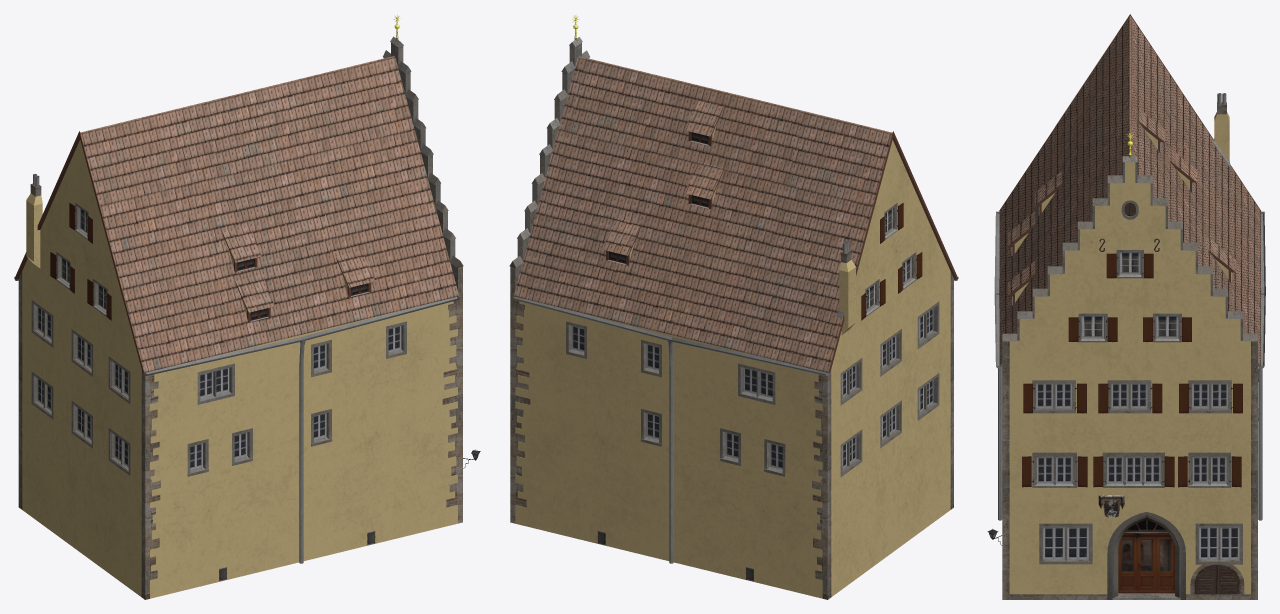
The model's file is mdl_wollo_rothenburg_2.gltf.
3 renders of one model, left to right at view 1: azimuth 30°, elevation 25°; view 2: azimuth 150°, elevation 25°; view 3: azimuth 270°, elevation 25°, orthographic.
Visible parts, largest first — view 1: Object_6; view 2: Object_6; view 3: Object_6.
Part boxes in pixels (x1,y1,x2,y2): Object_6: (14,14,480,599); Object_6: (509,14,958,599); Object_6: (987,14,1265,599).
Bounding box in the file's own units: 18.96 × 24.83 × 13.42.
Materials: 1 (1 with a texture image).
